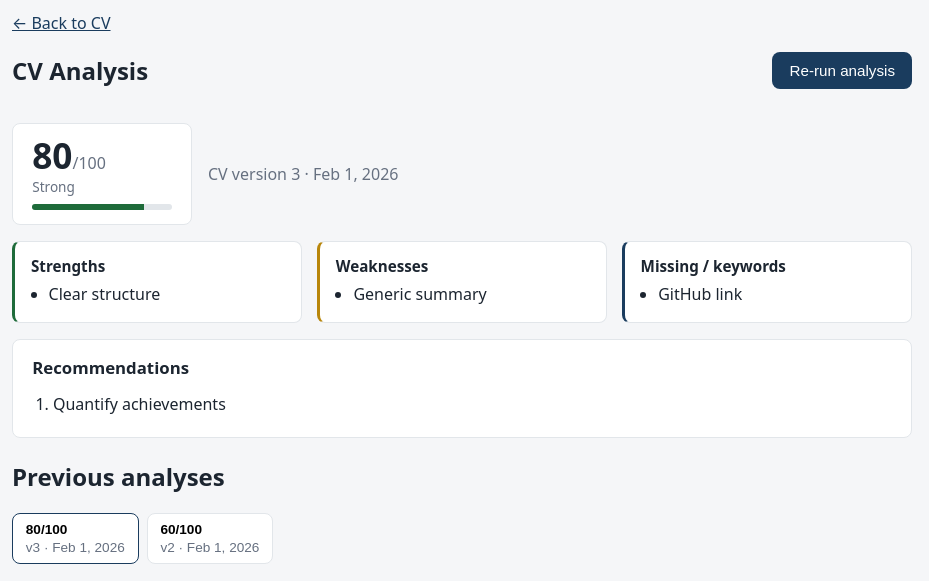
Test: <AnalyzeCV /> › lets you switch between previous analyses
Expected: the text "80" is shown, [32,131,72,179]
Step 1. Click the button "60/100 v2 · Feb 1, 2026" → coordinates (210, 538), box [147,513,273,564]
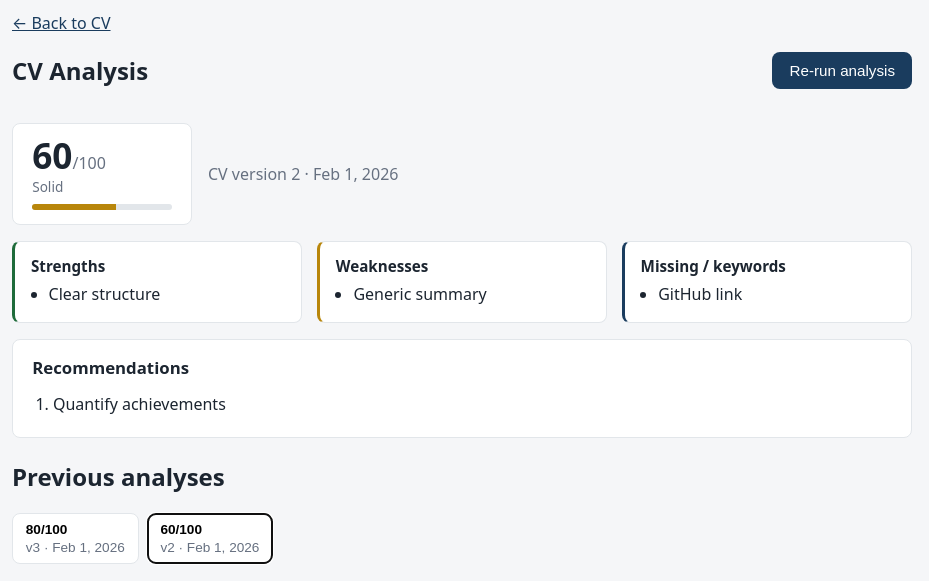
Expected: the text "60" is shown, [32,131,72,179]
